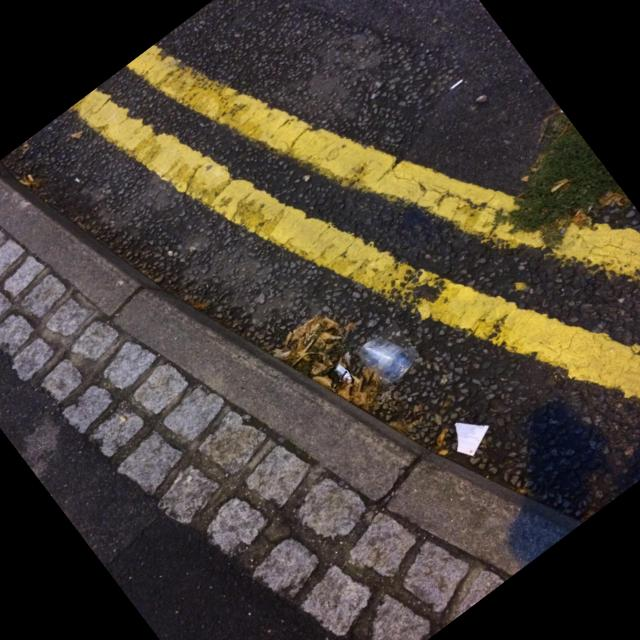Cup: (359, 339, 417, 385)
Paper bag: (455, 423, 489, 456)
Unlabeled litter: (332, 364, 353, 391)
